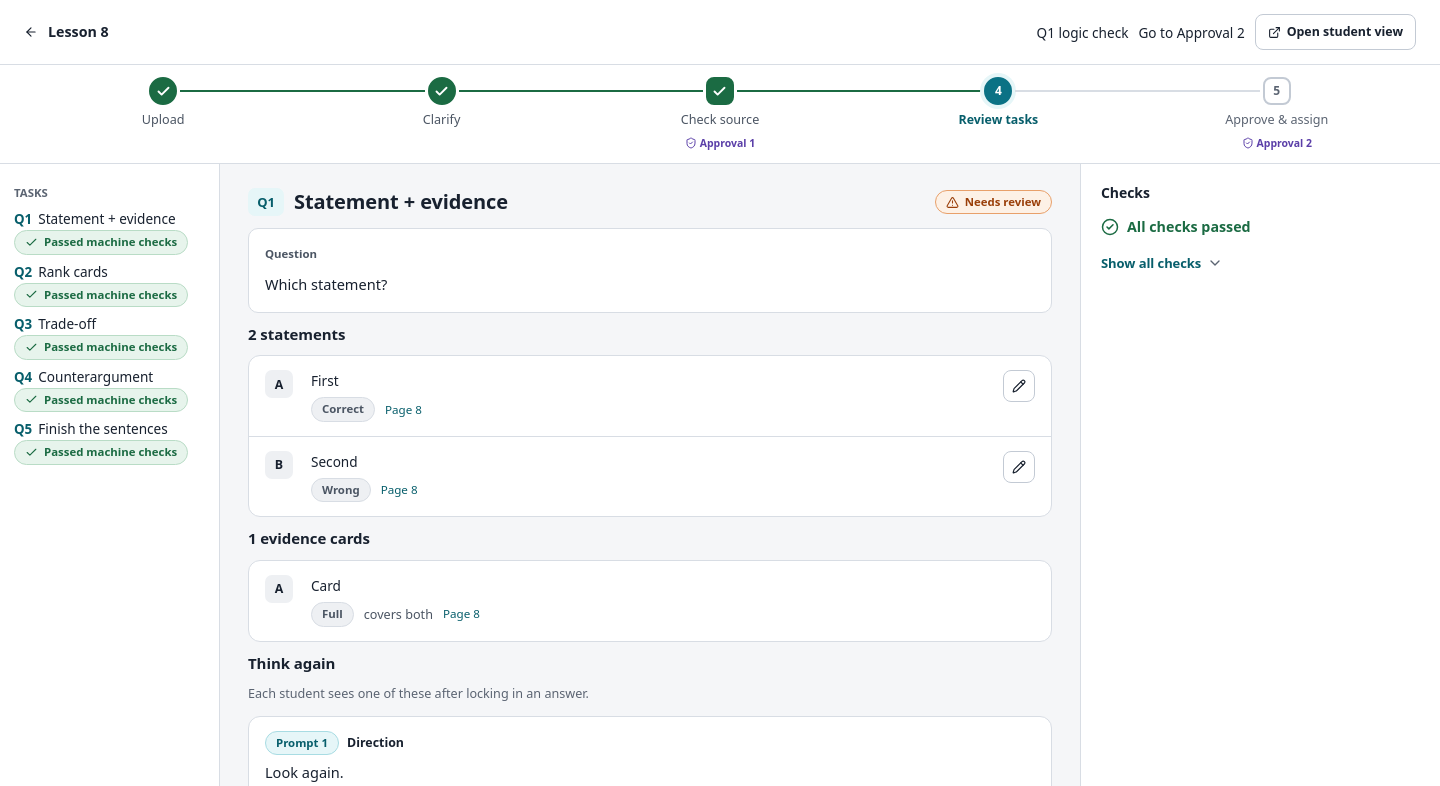
it: T7, T9 and T11 › a new fact in a quick edit shows the three actions
Click the button named "Quick edit statement A" at x=1019, y=386, box [1003,370,1035,402]
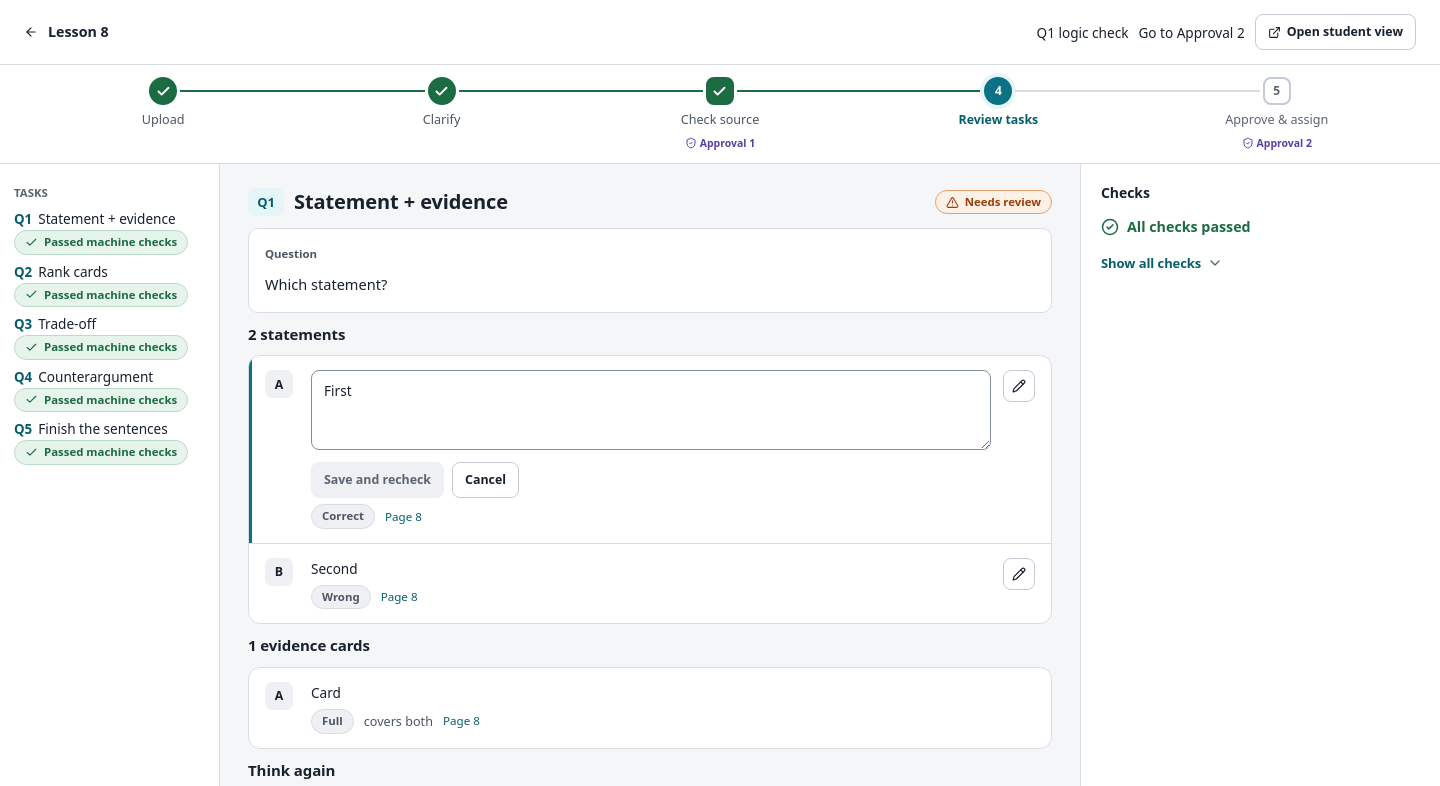
Replace the text in the text box named "Quick edit statement A" with "Fell by 5%" at x=651, y=410, box [311,370,991,450]
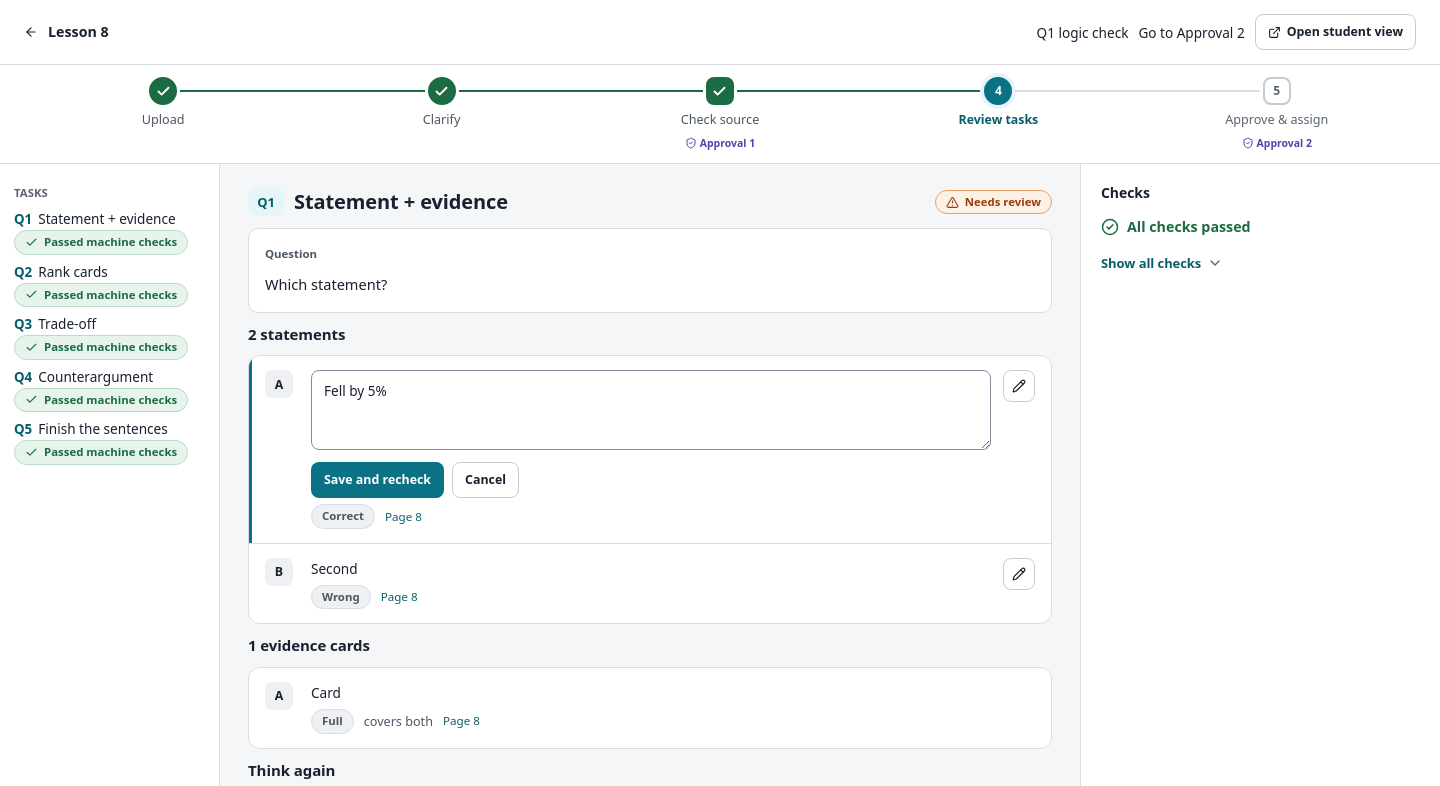
Click the button "Save and recheck" at x=378, y=480, box [311,462,444,498]
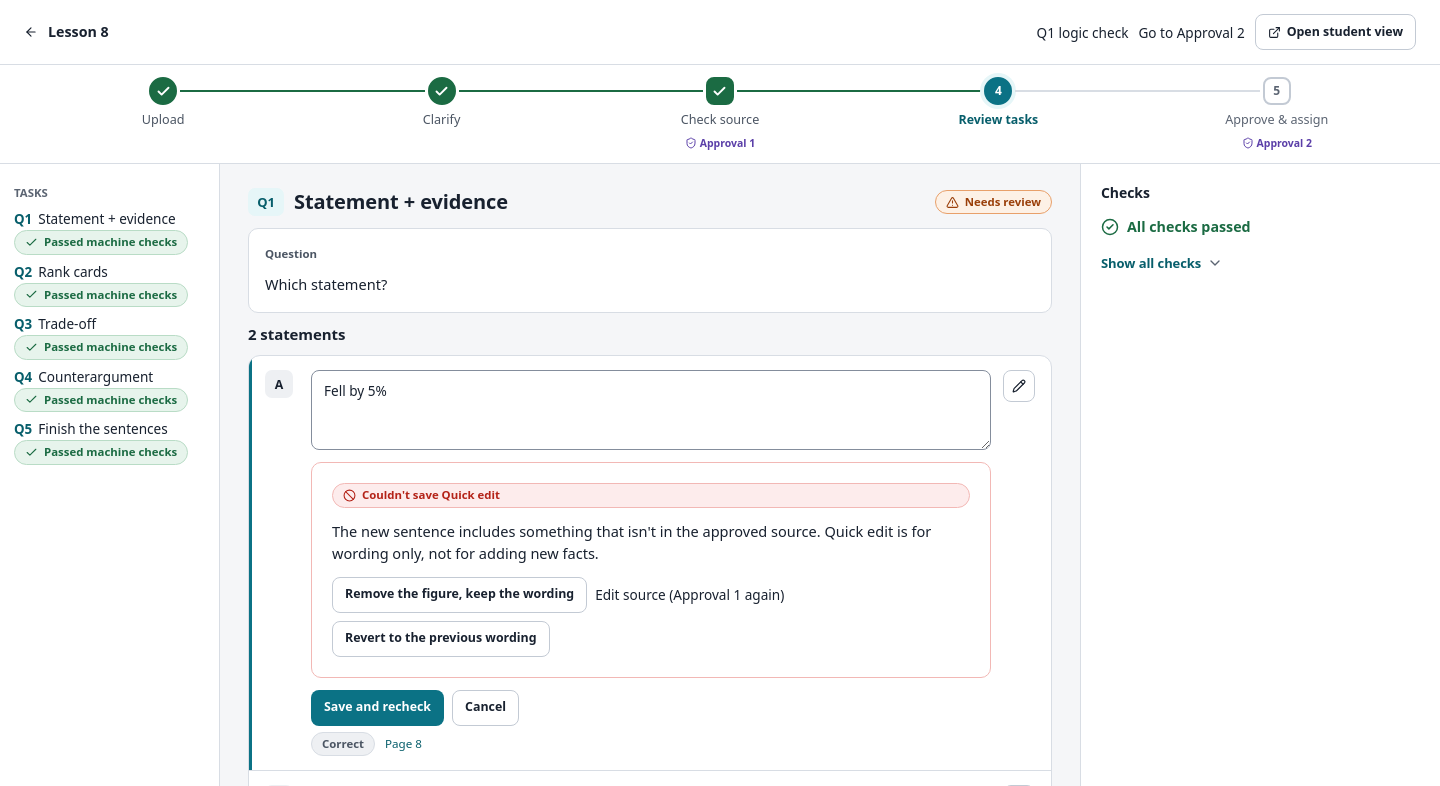
Expected: the text "Couldn't save Quick edit" is shown, [332,483,970,508]
Expected: the link "Edit source (Approval 1 again)" is shown, [595,584,784,605]
Expected: the button "Revert to the previous wording" is shown, [332,621,550,657]
